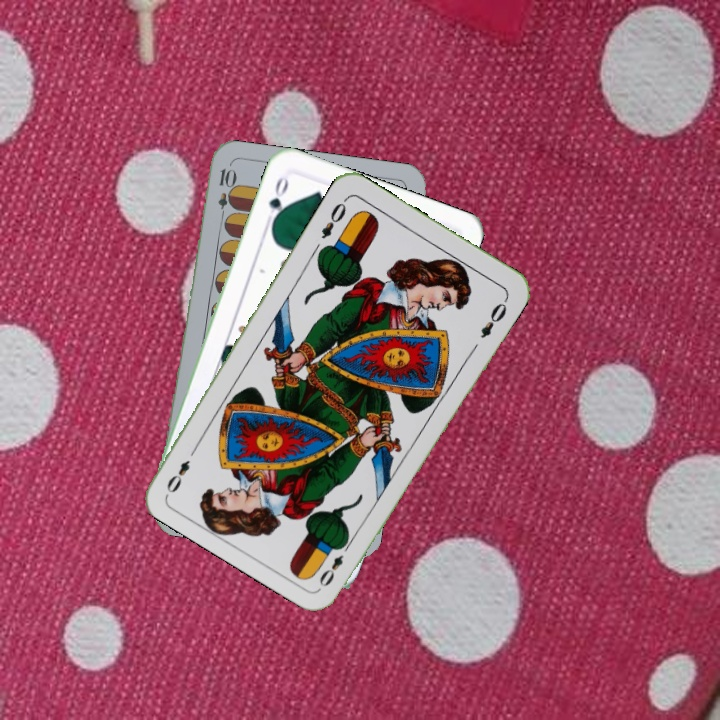E10: (213, 164, 235, 224)
EO: (315, 536, 354, 590), (317, 194, 350, 242)
GO: (265, 171, 292, 229)
